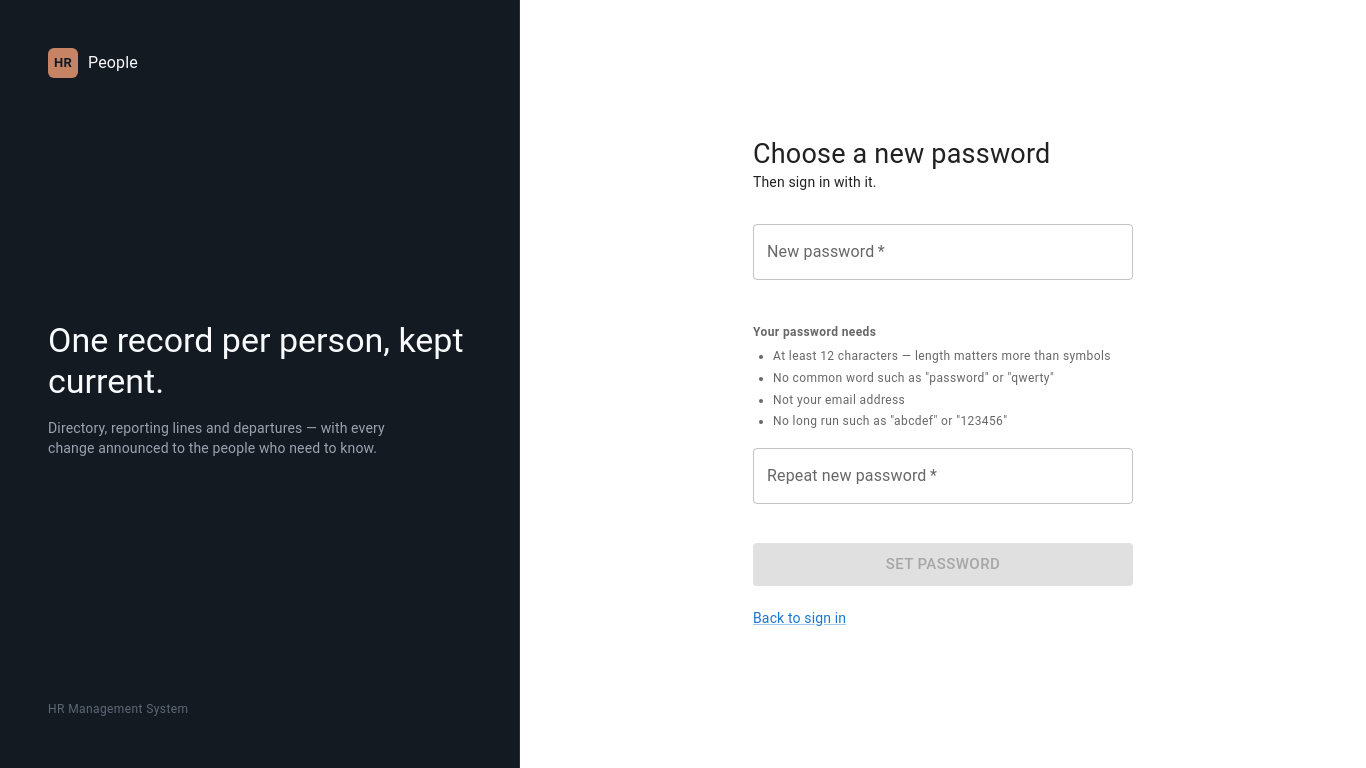
ResetPasswordPage › will not submit two entries that differ
This screenshot has width=1366, height=768.
In the password field labelled "New password *": (943, 252) left=753, top=224, right=1133, bottom=280, type "a-long-enough-password"
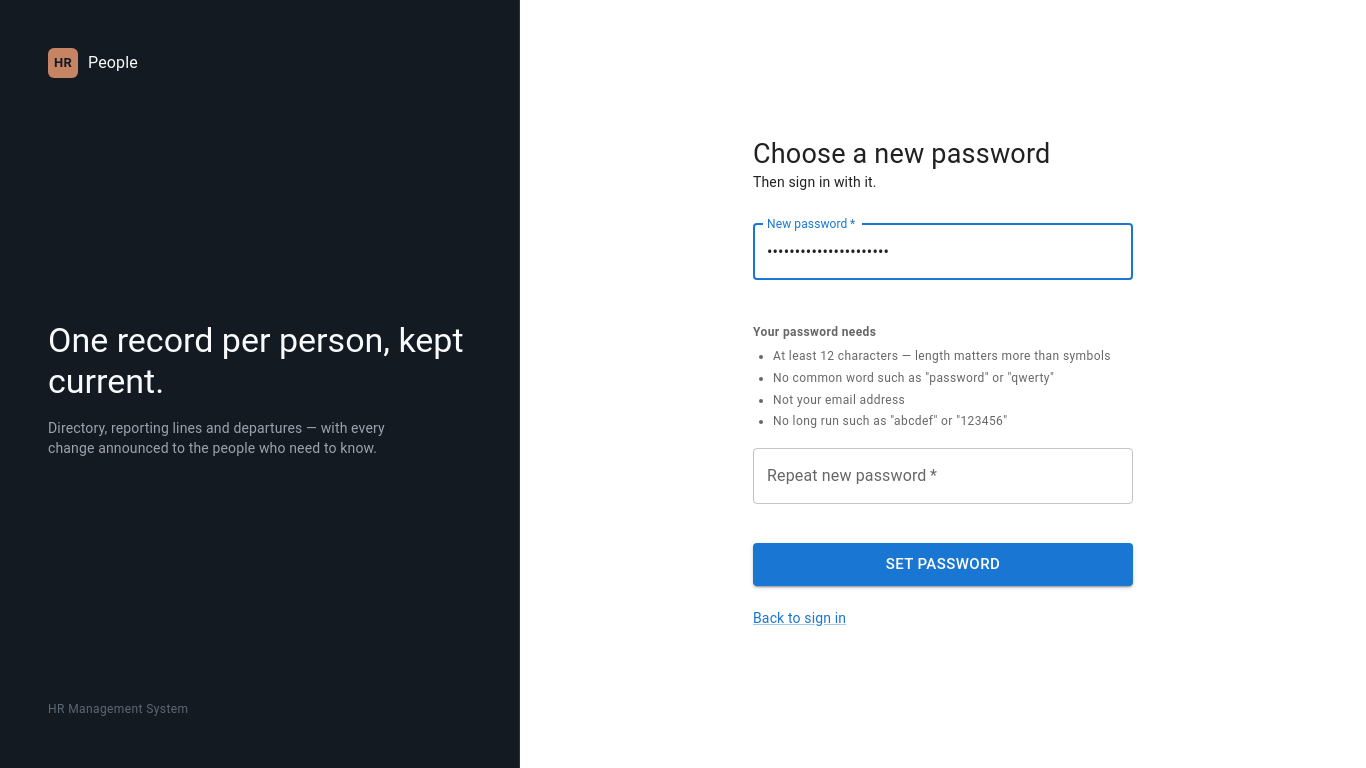
In the password field labelled "Repeat new password *": (943, 476) left=753, top=448, right=1133, bottom=504, type "a-long-enough-passwerd"
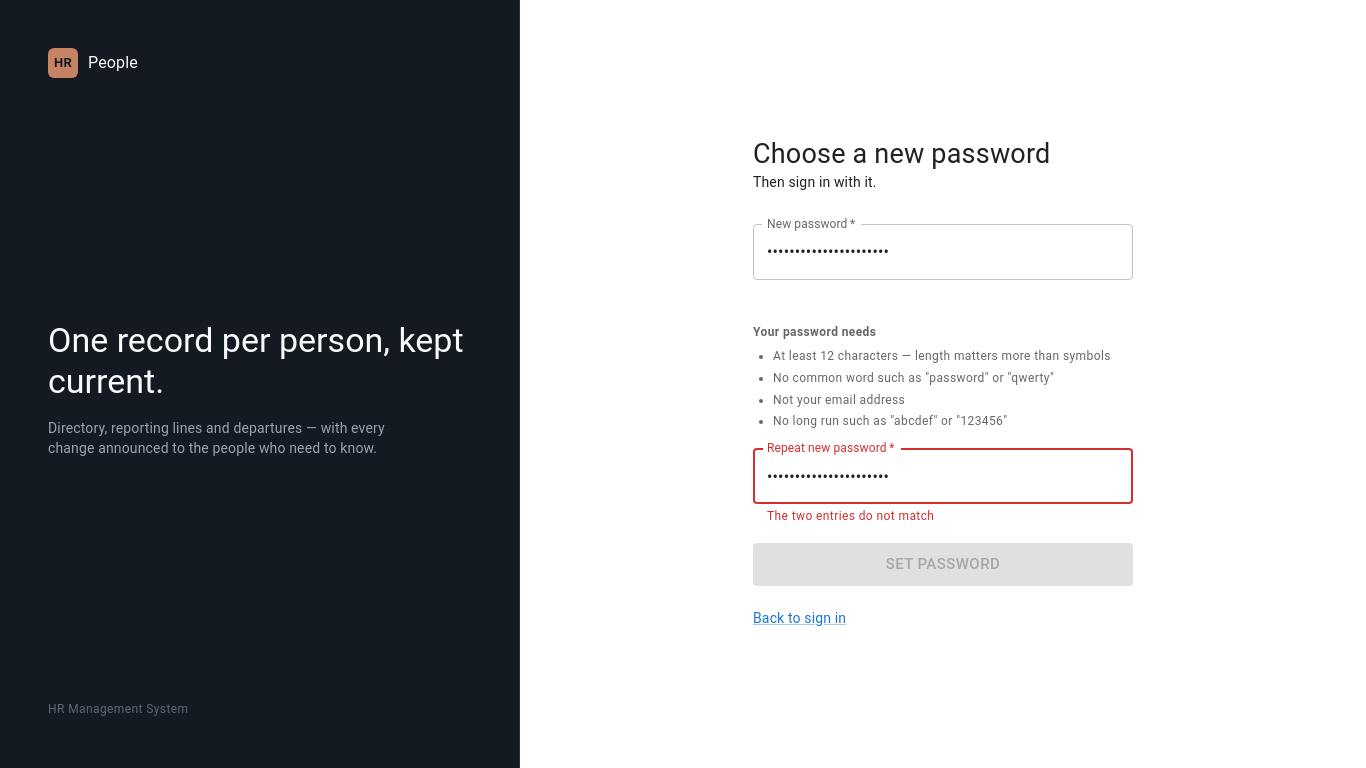
Expected: the button "Set password" is disabled, left=753, top=543, right=1133, bottom=586
Expected: the text "The two entries do not match" is shown, left=767, top=509, right=934, bottom=523
